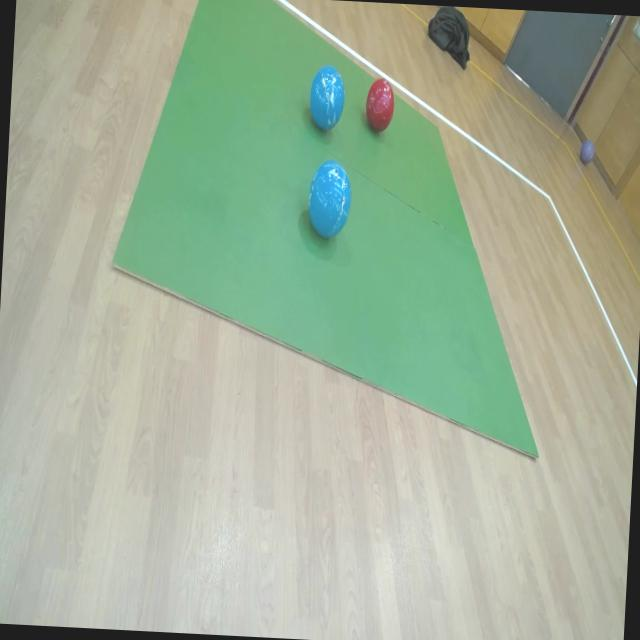blue_ball: (302, 156, 354, 248), (306, 63, 348, 137)
red_ball: (362, 72, 398, 138)
